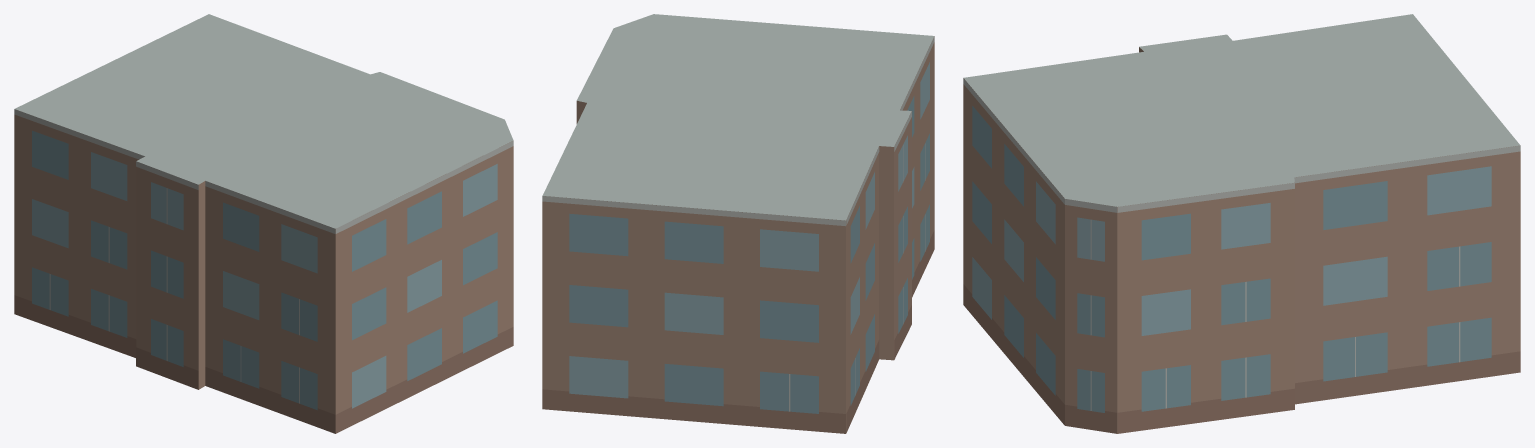
File: survey-upis-33032022.glb
3 views of the same model, side by side, from view 1: azimuth 30°, elevation 25°; view 2: azimuth 150°, elevation 25°; view 3: azimuth 270°, elevation 25° (orthographic). The views are drawn at different scales.
Parts seen in each view (by area): view 1: survey-upis-33032022.tmp; view 2: survey-upis-33032022.tmp; view 3: survey-upis-33032022.tmp.
Part boxes in pixels (x1,y1,x2,y2): survey-upis-33032022.tmp: (14,14,513,433); survey-upis-33032022.tmp: (542,14,934,433); survey-upis-33032022.tmp: (963,14,1520,433).
Size of the model in its own units: 16.68 by 9.15 by 20.36.
